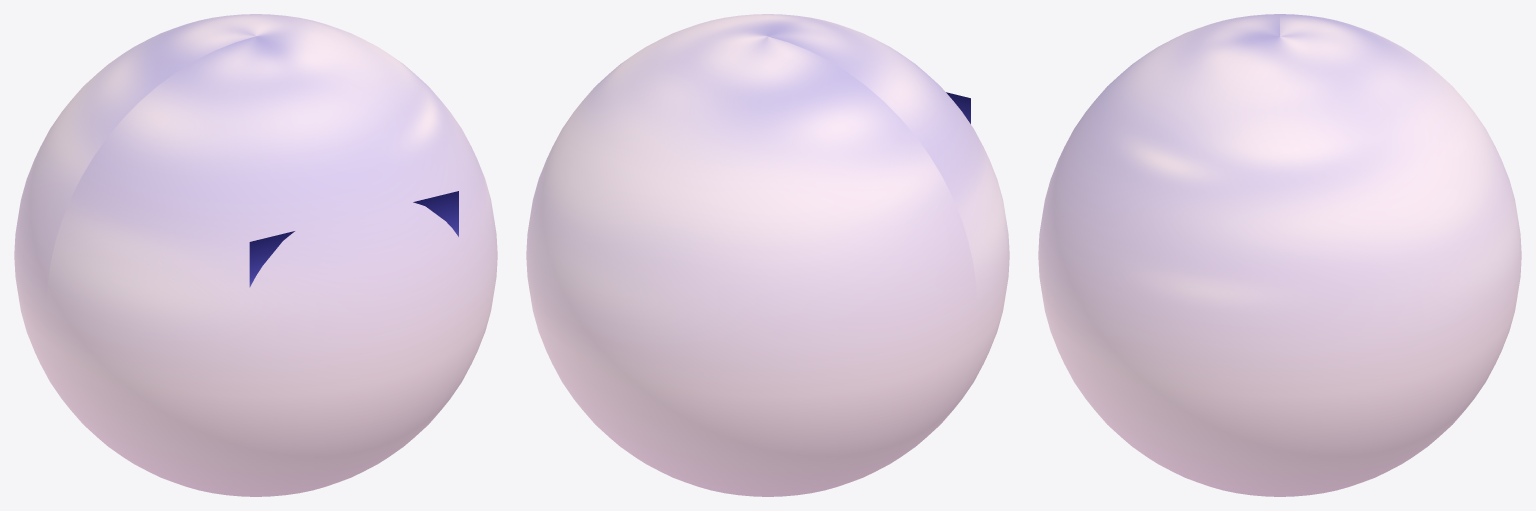
3 renders of one model, left to right at view 1: azimuth 30°, elevation 25°; view 2: azimuth 150°, elevation 25°; view 3: azimuth 270°, elevation 25°, orthographic.
Visible parts, largest first — view 1: My_Digital_Museum_Courtyard; view 2: My_Digital_Museum_Courtyard; view 3: My_Digital_Museum_Courtyard.
Part boxes in pixels (x1,y1,x2,y2): My_Digital_Museum_Courtyard: [14, 14, 497, 496]; My_Digital_Museum_Courtyard: [526, 14, 1009, 496]; My_Digital_Museum_Courtyard: [1038, 14, 1521, 496].
Bounding box in the file's own units: 32 × 32 × 32.
32 materials, 3 textured.
